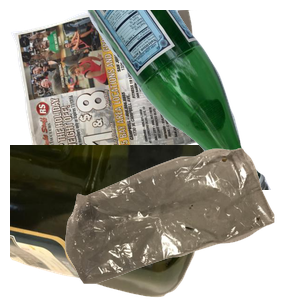glass: (75, 10, 300, 190)
paper: (10, 10, 210, 175)
plastic: (10, 145, 213, 300)
trash: (63, 145, 300, 300)
